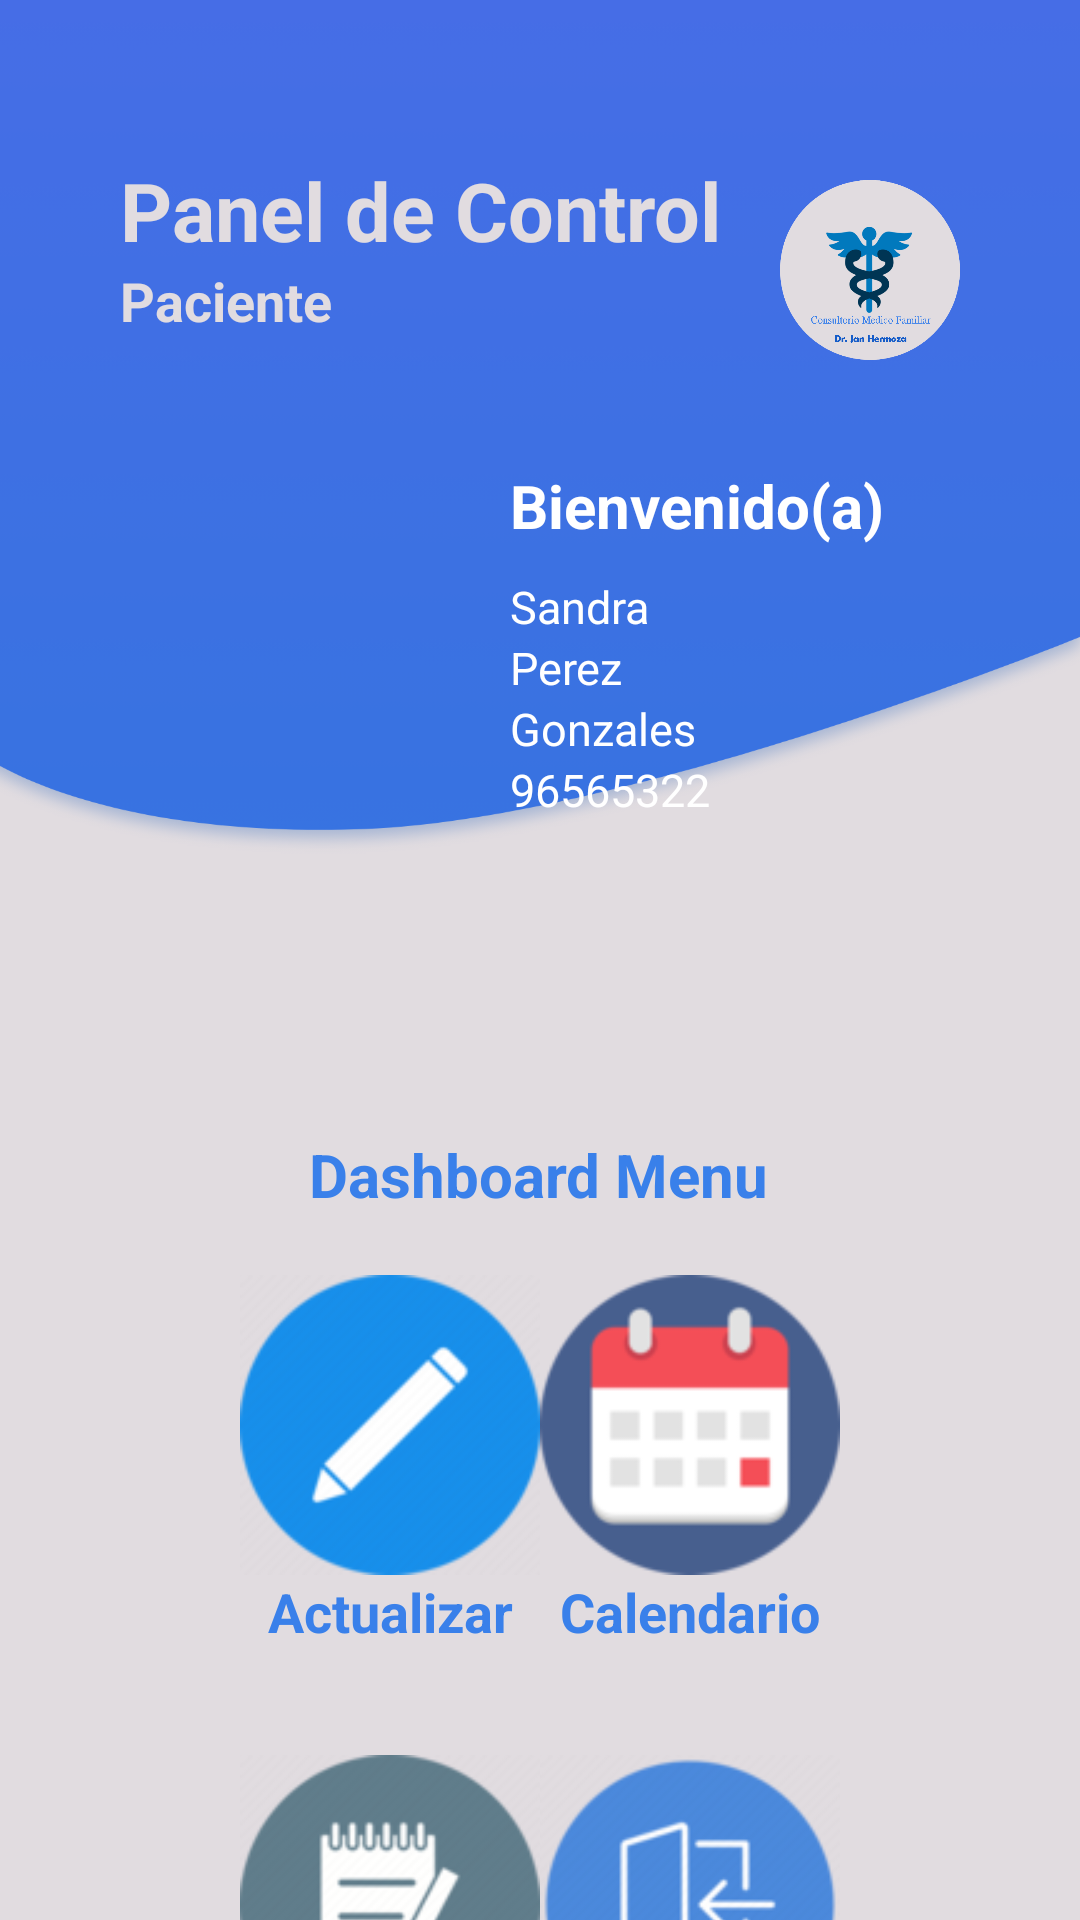

Icon click points for this 1080×1920 phone screenshot, format (x,y):
editar: (390,1425)
